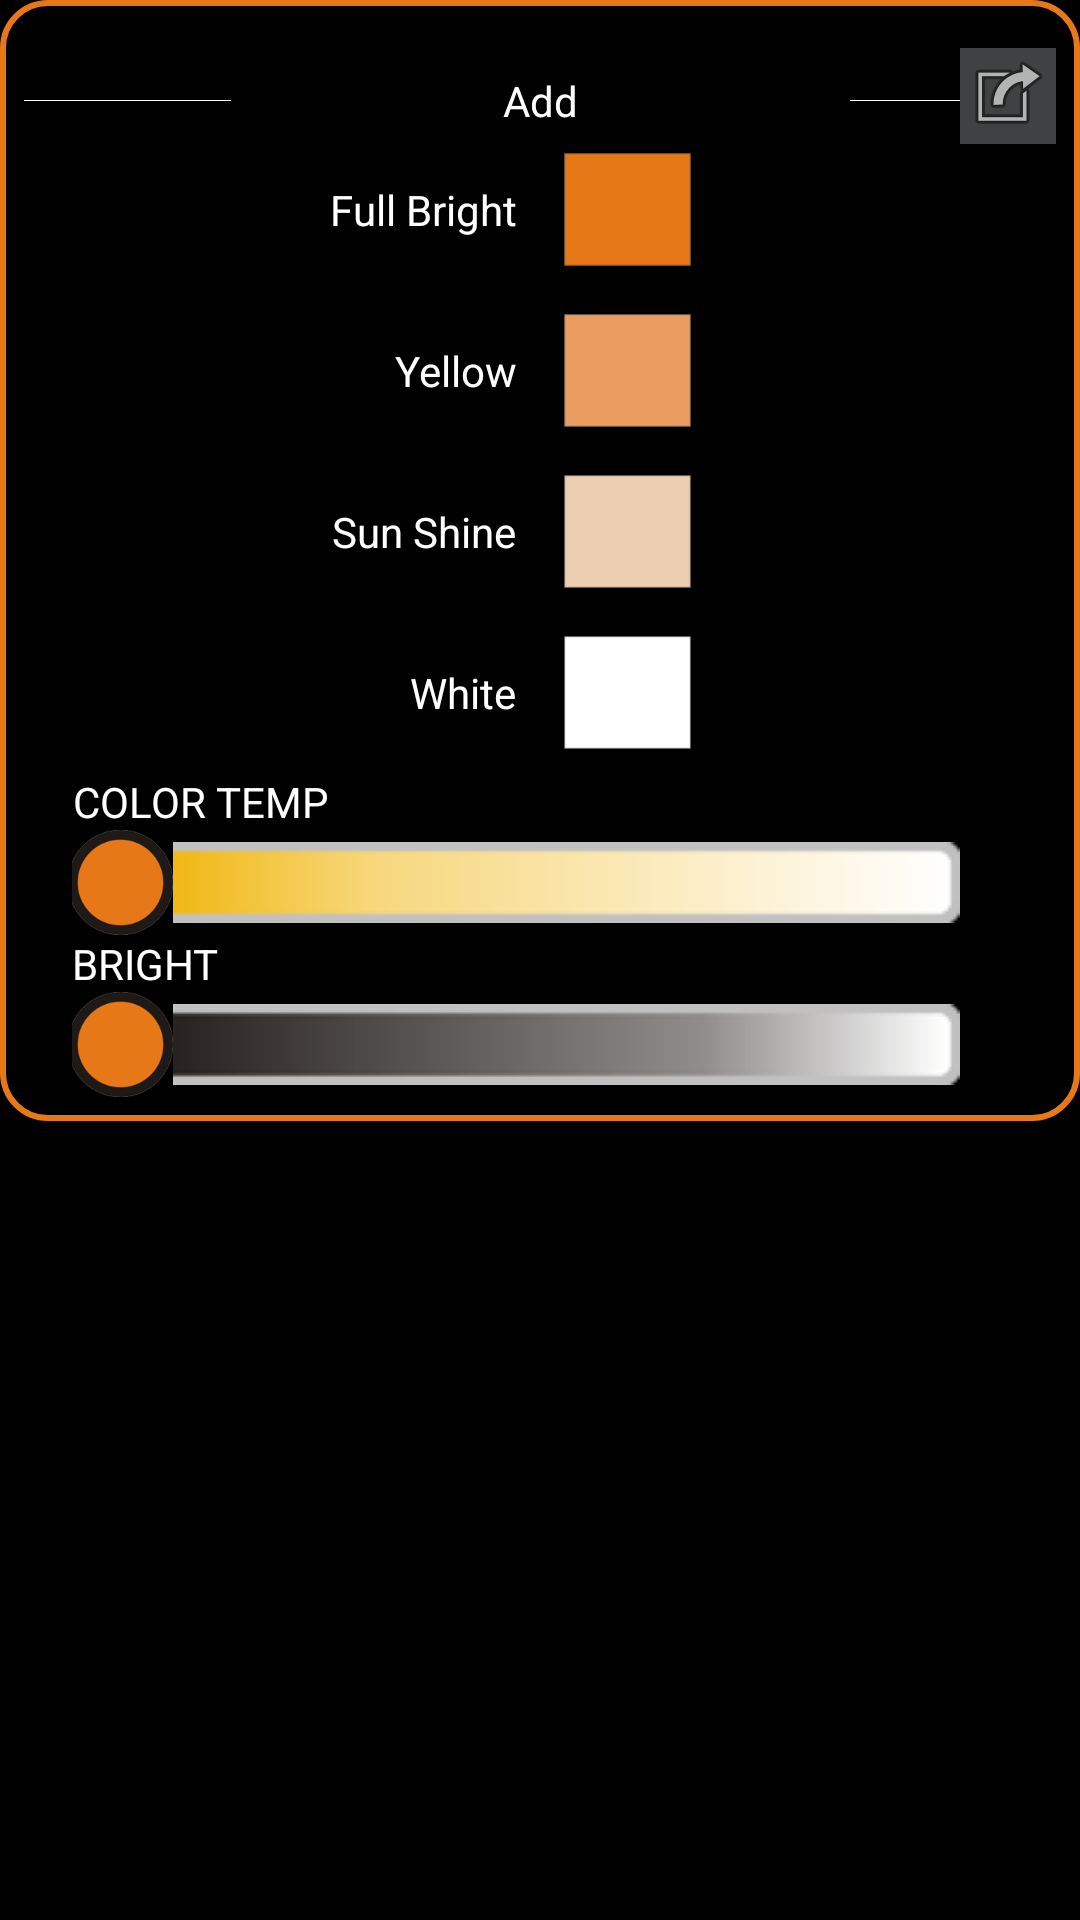

Point at icon controls on the screen. Image size 1080 x 1920, points as [x,y].
set as: [1008,96]
